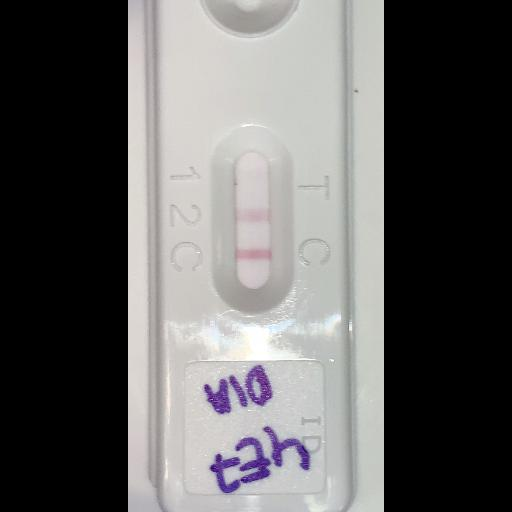Pos: (150, 0, 358, 506)
